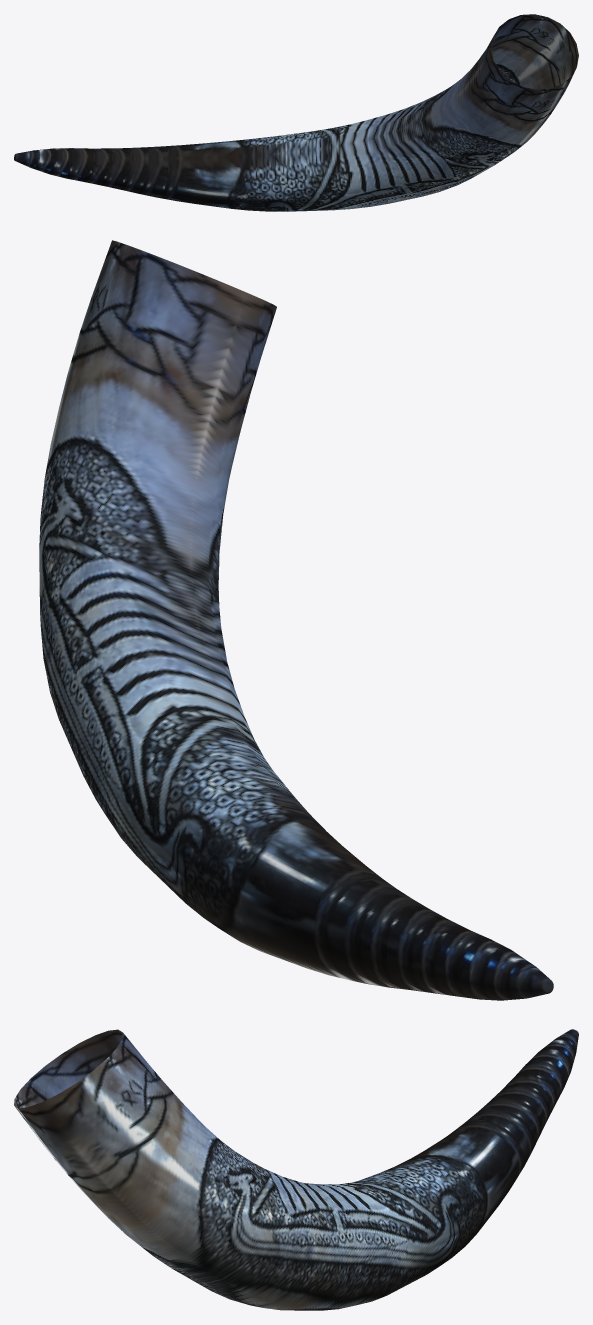
File: asset.glb
The picture shows the model from 3 angles, top to bottom: view 1: azimuth 30°, elevation 25°; view 2: azimuth 150°, elevation 25°; view 3: azimuth 270°, elevation 25°; orthographic projection. The views are drawn at different scales.
Parts seen in each view (by area): view 1: Circle.067; view 2: Circle.067; view 3: Circle.067.
Boxes of the visible parts, box(x1,y1,x2,y2) form: Circle.067: box(14, 14, 578, 211); Circle.067: box(39, 240, 553, 1000); Circle.067: box(14, 1029, 578, 1310).
Bounding box in the file's own units: 0.5249 × 0.2948 × 0.4474.
1 material, 1 textured.
